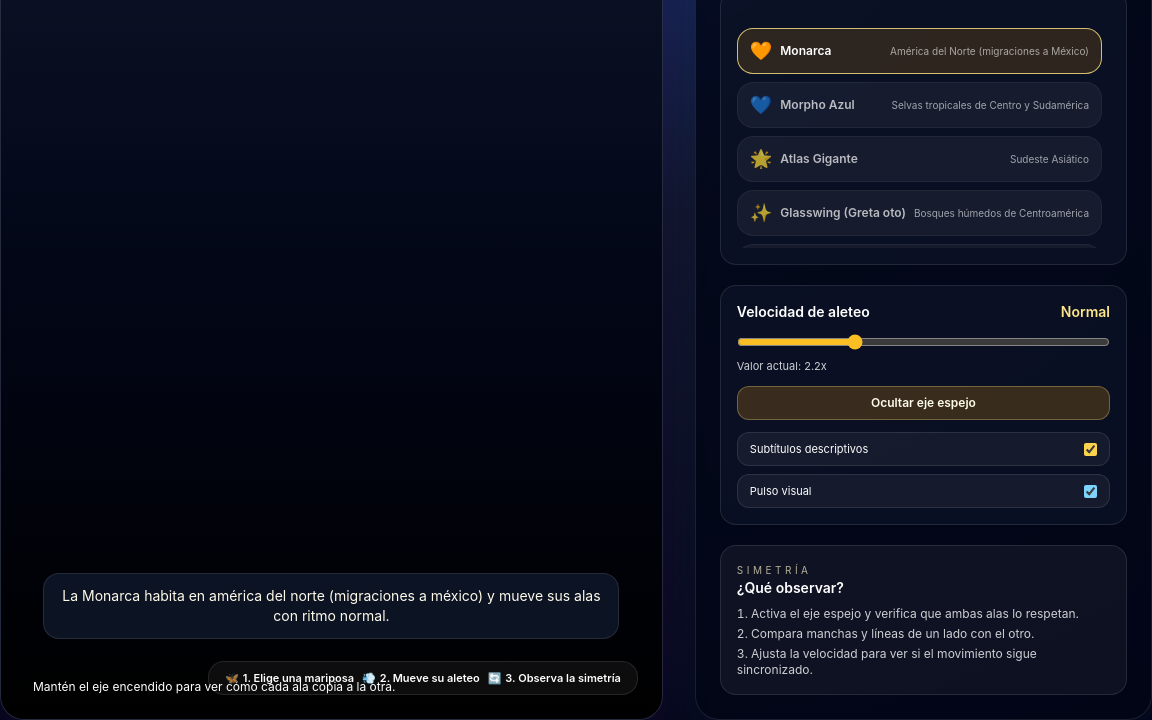
ButterfliesPage › permite ocultar los subtítulos descriptivos
(page scrolled)
Check: the message is shown, box [43,573,619,639]
Click the checkbox labelled "Subtítulos descriptivos" at (1090, 449), box [1084,442,1097,456]
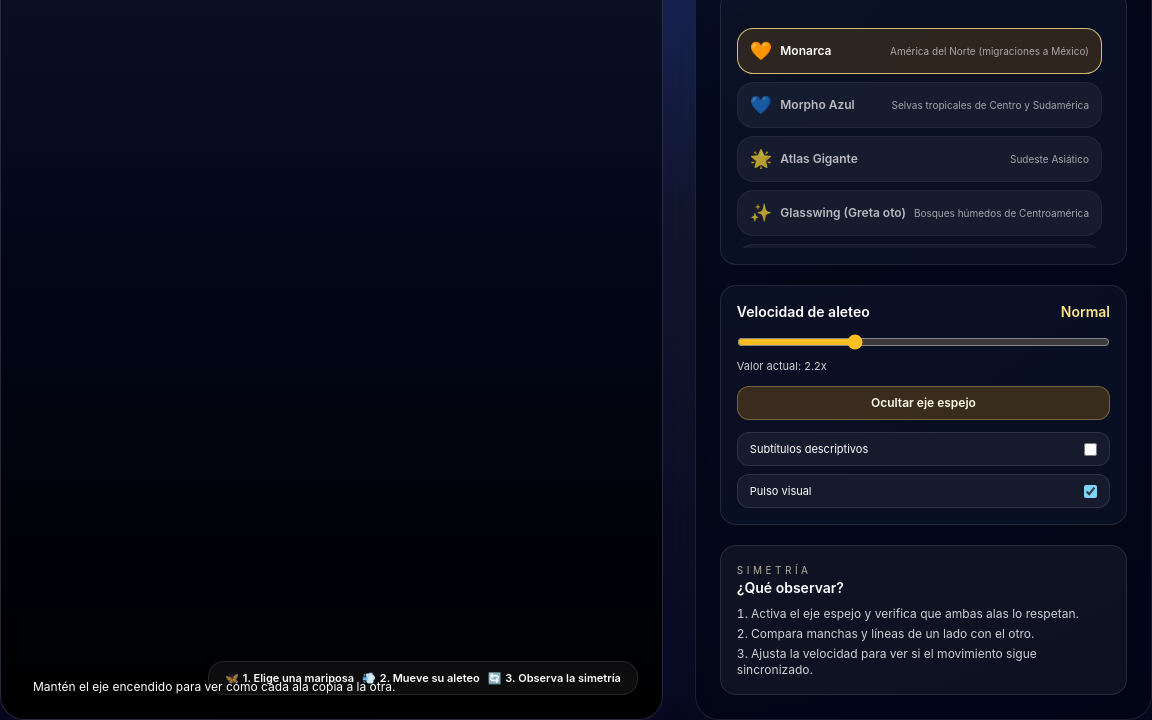
Check: the checkbox labelled "Subtítulos descriptivos" is not checked, box [1084,442,1097,456]
Check: the message is gone
